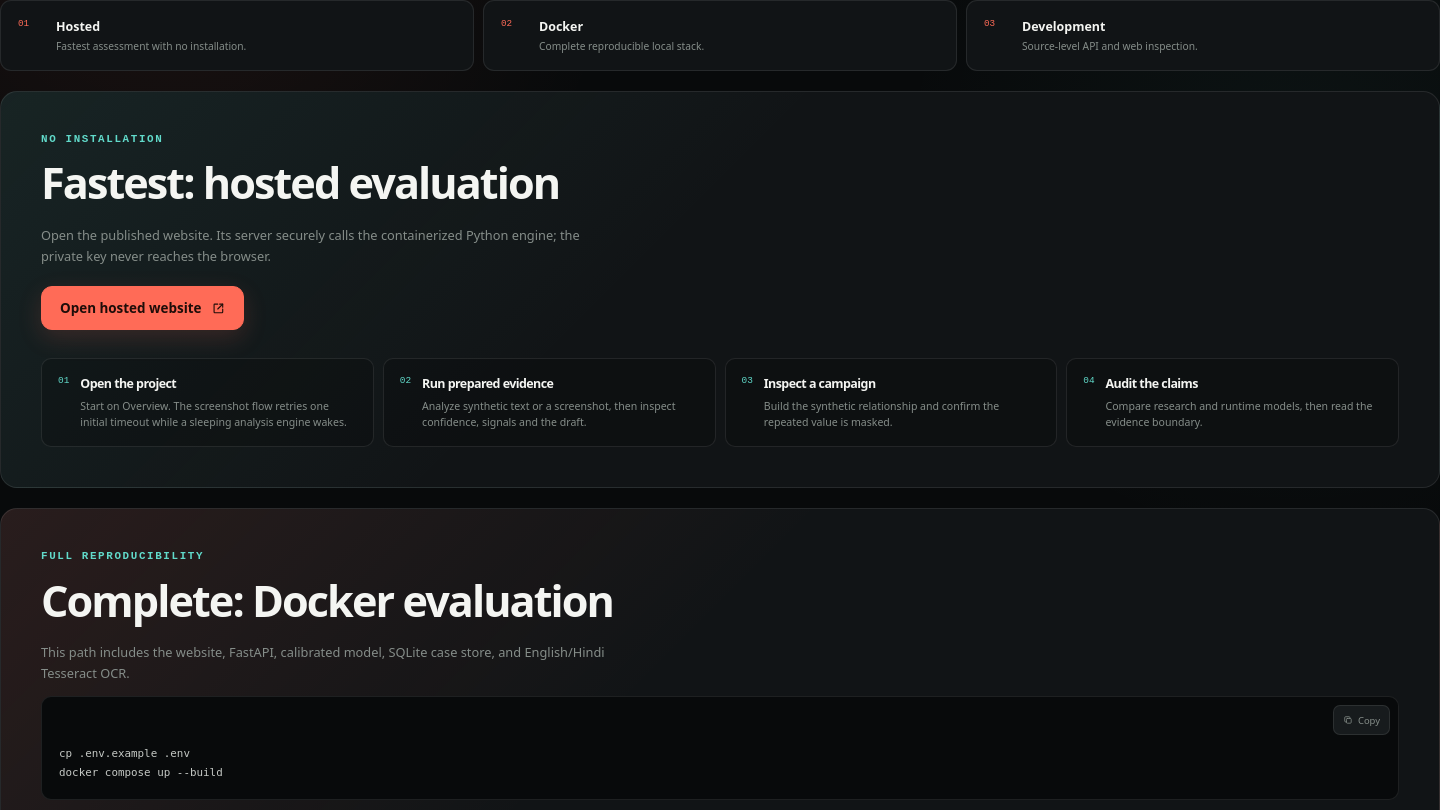
Test: ProjectGuide › copies a run command with visible feedback
Click the button with aria-label "copy command" at (1361, 720), box [1332,705,1390,735]
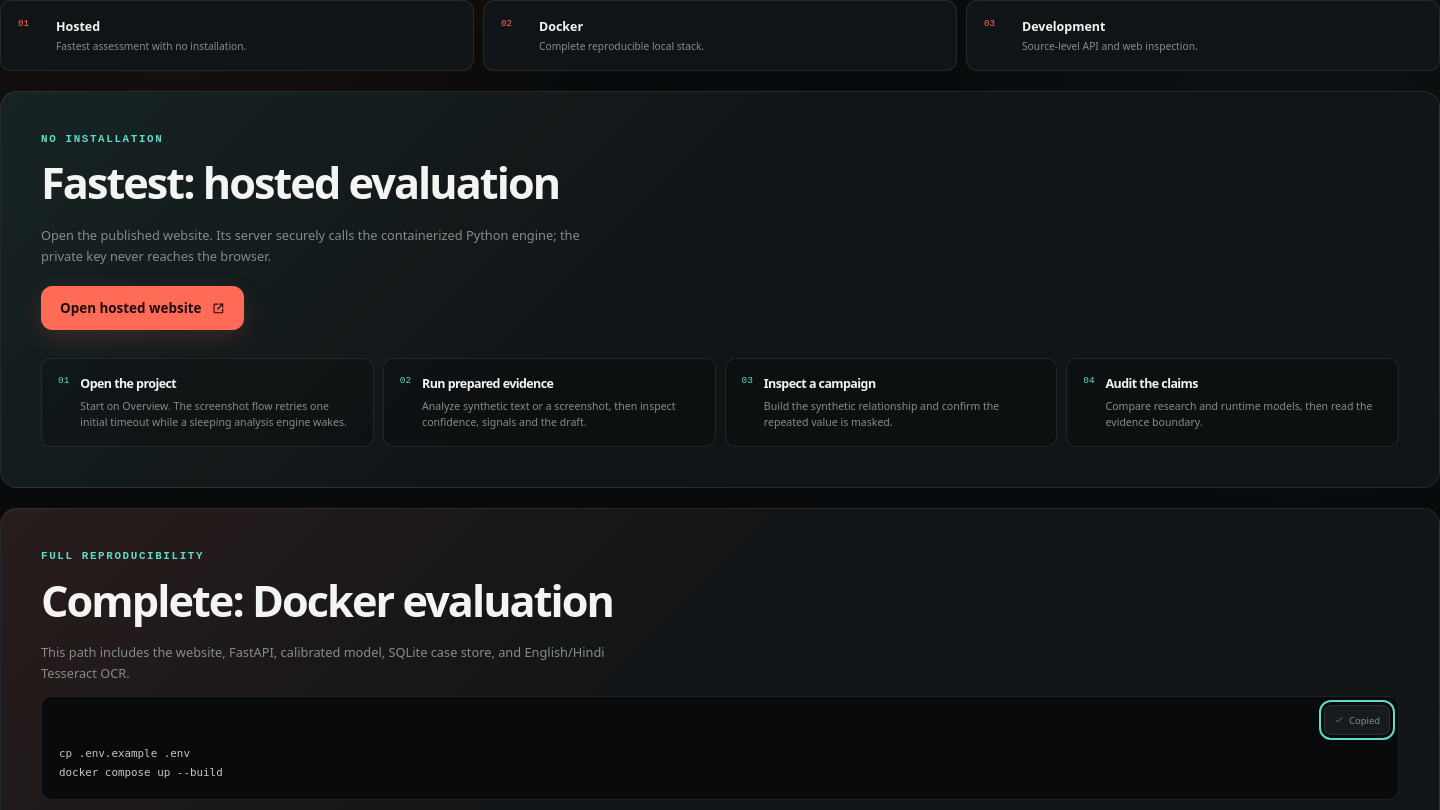
expect the button with aria-label "command copied" is shown: met, box [1324,705,1390,735]
